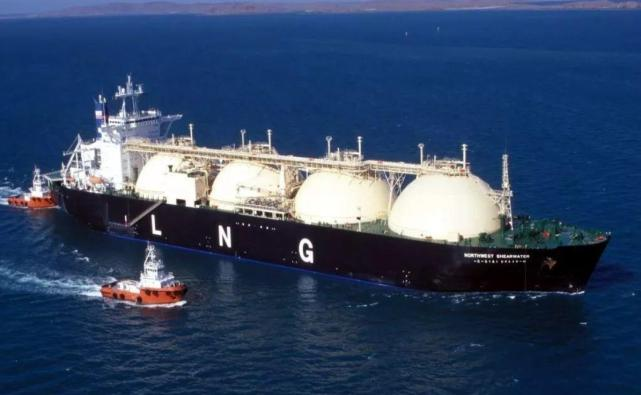Cargoship: (59, 74, 618, 304)
otherboat: (94, 240, 188, 317), (1, 163, 55, 214)
